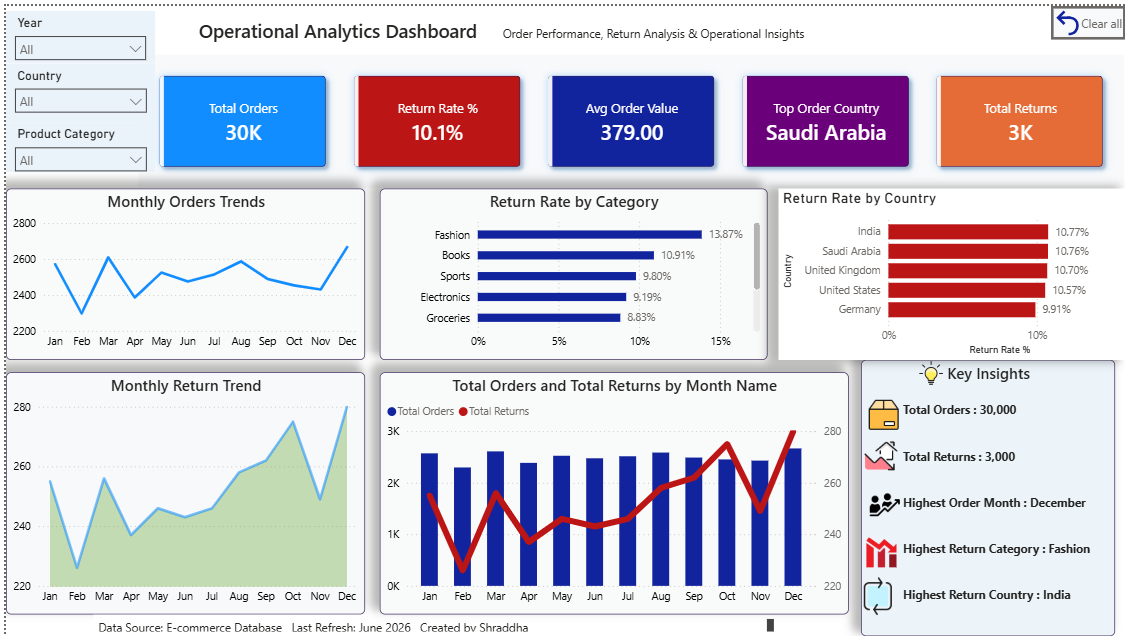

Layout of this report page (visuals, bound fields, positions):
{"tool":"powerbi","page":{"name":"Operations Analytics","canvas":[1280,720],"ordinal":3},"visuals":[{"type":"textbox","title":"Key Insights","box":[977.1,404.3,290,315.7],"z":500},{"type":"lineChart","title":"Monthly Return Trend","fields":{"Category":["ecommerce_orders_dataset.Month Name"],"Y":["ecommerce_orders_dataset.Total Returns"]},"box":[0,418.6,410,277.1],"z":1000},{"type":"actionButton","box":[1194.7,0,85.3,38.4],"z":3000},{"type":"textbox","box":[100,695.7,782.9,24.3],"z":4000},{"type":"textbox","box":[182.9,8.6,750,40],"z":8000},{"type":"lineStackedColumnComboChart","fields":{"Category":["ecommerce_orders_dataset.Month Name"],"Y":["ecommerce_orders_dataset.Total Orders"],"Y2":["ecommerce_orders_dataset.Total Returns"]},"box":[427.1,418.6,535.7,277.1],"z":10000},{"type":"image","box":[1042.9,405.7,28.6,27.1],"z":12000},{"type":"cardVisual","fields":{"Data":["ecommerce_orders_dataset.Total Orders","ecommerce_orders_dataset.Return Rate %","Avg(ecommerce_orders_dataset.Order_Amount)","ecommerce_orders_dataset.Best Operational Country","ecommerce_orders_dataset.Total Returns"]},"box":[151.4,55.7,1128.6,152.9],"z":18000},{"type":"slicer","fields":{"Values":["ecommerce_orders_dataset.Year N"]},"box":[0,5.8,170.2,59.2],"z":18500},{"type":"slicer","fields":{"Values":["ecommerce_orders_dataset.Country"]},"box":[0,65.4,170.7,66.8],"z":19000},{"type":"slicer","fields":{"Values":["ecommerce_orders_dataset.Product_Category"]},"box":[0,132.3,170.7,56.9],"z":19500},{"type":"lineChart","title":"Monthly Orders Trends","fields":{"Category":["ecommerce_orders_dataset.Month Name"],"Y":["ecommerce_orders_dataset.Total Orders"]},"box":[0,208.6,410,195.7],"z":20000},{"type":"clusteredBarChart","title":"Return Rate by Category","fields":{"Category":["ecommerce_orders_dataset.Product_Category"],"Y":["ecommerce_orders_dataset.Return Rate %"]},"box":[427.1,208.6,442.9,195.7],"z":20500},{"type":"clusteredBarChart","title":"Return Rate by Country","fields":{"Category":["ecommerce_orders_dataset.Country"],"Y":["ecommerce_orders_dataset.Return Rate %"]},"box":[882.9,208.6,397.1,195.7],"z":21000},{"type":"image","box":[984.3,450,37.1,34.3],"z":21500},{"type":"image","box":[977.1,495.7,45.7,37.1],"z":22000},{"type":"image","box":[987.1,532.9,34.3,74.3],"z":22500},{"type":"image","box":[945.7,607.1,110,34.3],"z":23000},{"type":"image","box":[970,652.9,52.9,42.9],"z":23500}]}

Visuals, with their boxes in screenshot pixels (x1, y1, x2, y2), scaled from the page's 1280x720 canvas onto the 1125x636 screenshot:
"Key Insights" textbox: region(859, 357, 1114, 635)
"Monthly Return Trend" lineChart: region(0, 370, 360, 615)
actionButton: region(1050, 0, 1124, 34)
textbox: region(88, 615, 776, 635)
textbox: region(161, 8, 820, 43)
lineStackedColumnComboChart - ecommerce_orders_dataset.Month Name x ecommerce_orders_dataset.Total Orders: region(375, 370, 846, 615)
image: region(917, 358, 942, 382)
cardVisual - ecommerce_orders_dataset.Total Orders x ecommerce_orders_dataset.Return Rate %: region(133, 49, 1124, 184)
slicer - ecommerce_orders_dataset.Year N: region(0, 5, 150, 57)
slicer - ecommerce_orders_dataset.Country: region(0, 58, 150, 117)
slicer - ecommerce_orders_dataset.Product_Category: region(0, 117, 150, 167)
"Monthly Orders Trends" lineChart: region(0, 184, 360, 357)
"Return Rate by Category" clusteredBarChart: region(375, 184, 765, 357)
"Return Rate by Country" clusteredBarChart: region(776, 184, 1124, 357)
image: region(865, 398, 898, 428)
image: region(859, 438, 899, 471)
image: region(868, 471, 898, 536)
image: region(831, 536, 928, 567)
image: region(853, 577, 899, 615)
